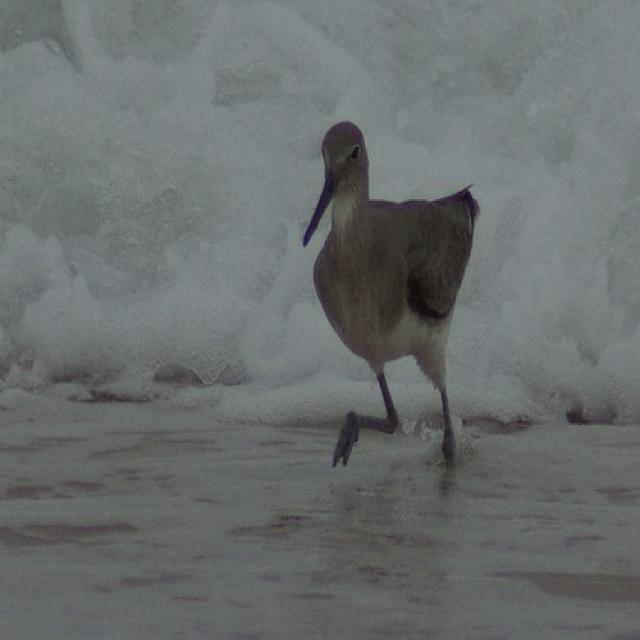bird: (301, 116, 480, 477)
